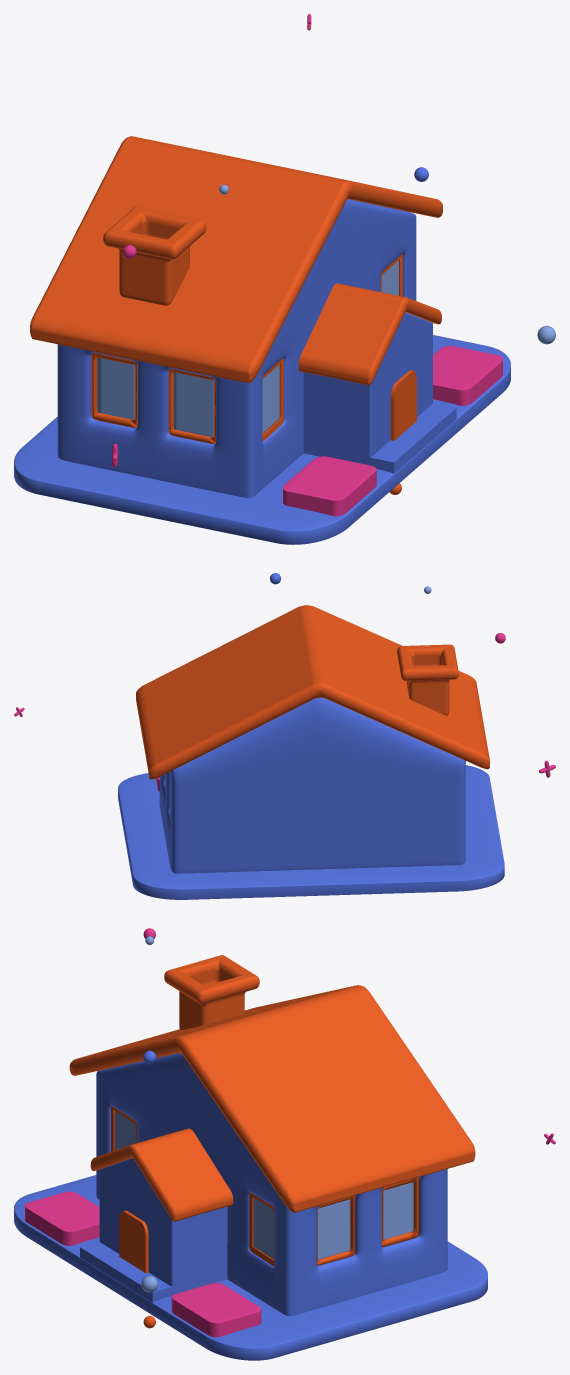
Rendered from smart-house-3d-animated-icon-1055768998671.glb.
3 renders of one model, top to bottom at view 1: azimuth 30°, elevation 25°; view 2: azimuth 150°, elevation 25°; view 3: azimuth 270°, elevation 25°, orthographic. The views are drawn at different scales.
Visible parts, largest first — view 1: home; view 2: home; view 3: home.
Part boxes in pixels (x1=…): home: x1=14, y1=136, x2=510, y2=544; home: x1=118, y1=605, x2=504, y2=899; home: x1=14, y1=955, x2=487, y2=1360.
Size of what is drawn, in the model's own units: 5.55 by 3.83 by 5.95.
